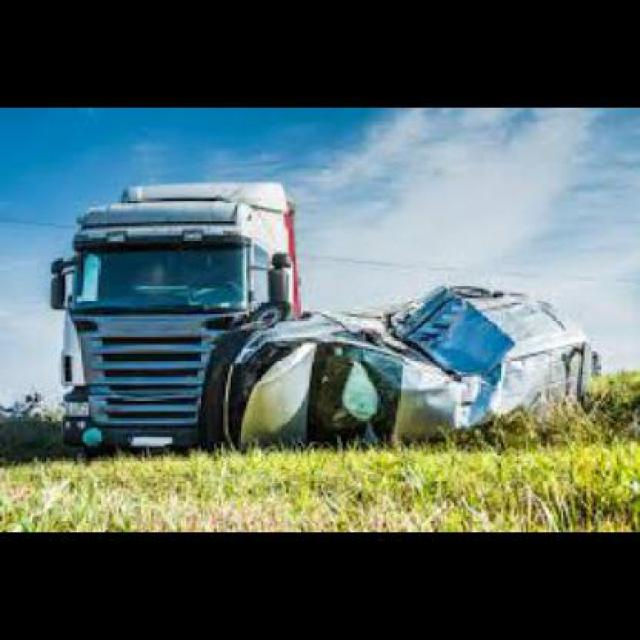accident: (37, 161, 612, 461)
